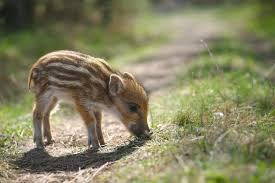wildboar: (25, 47, 152, 150)
